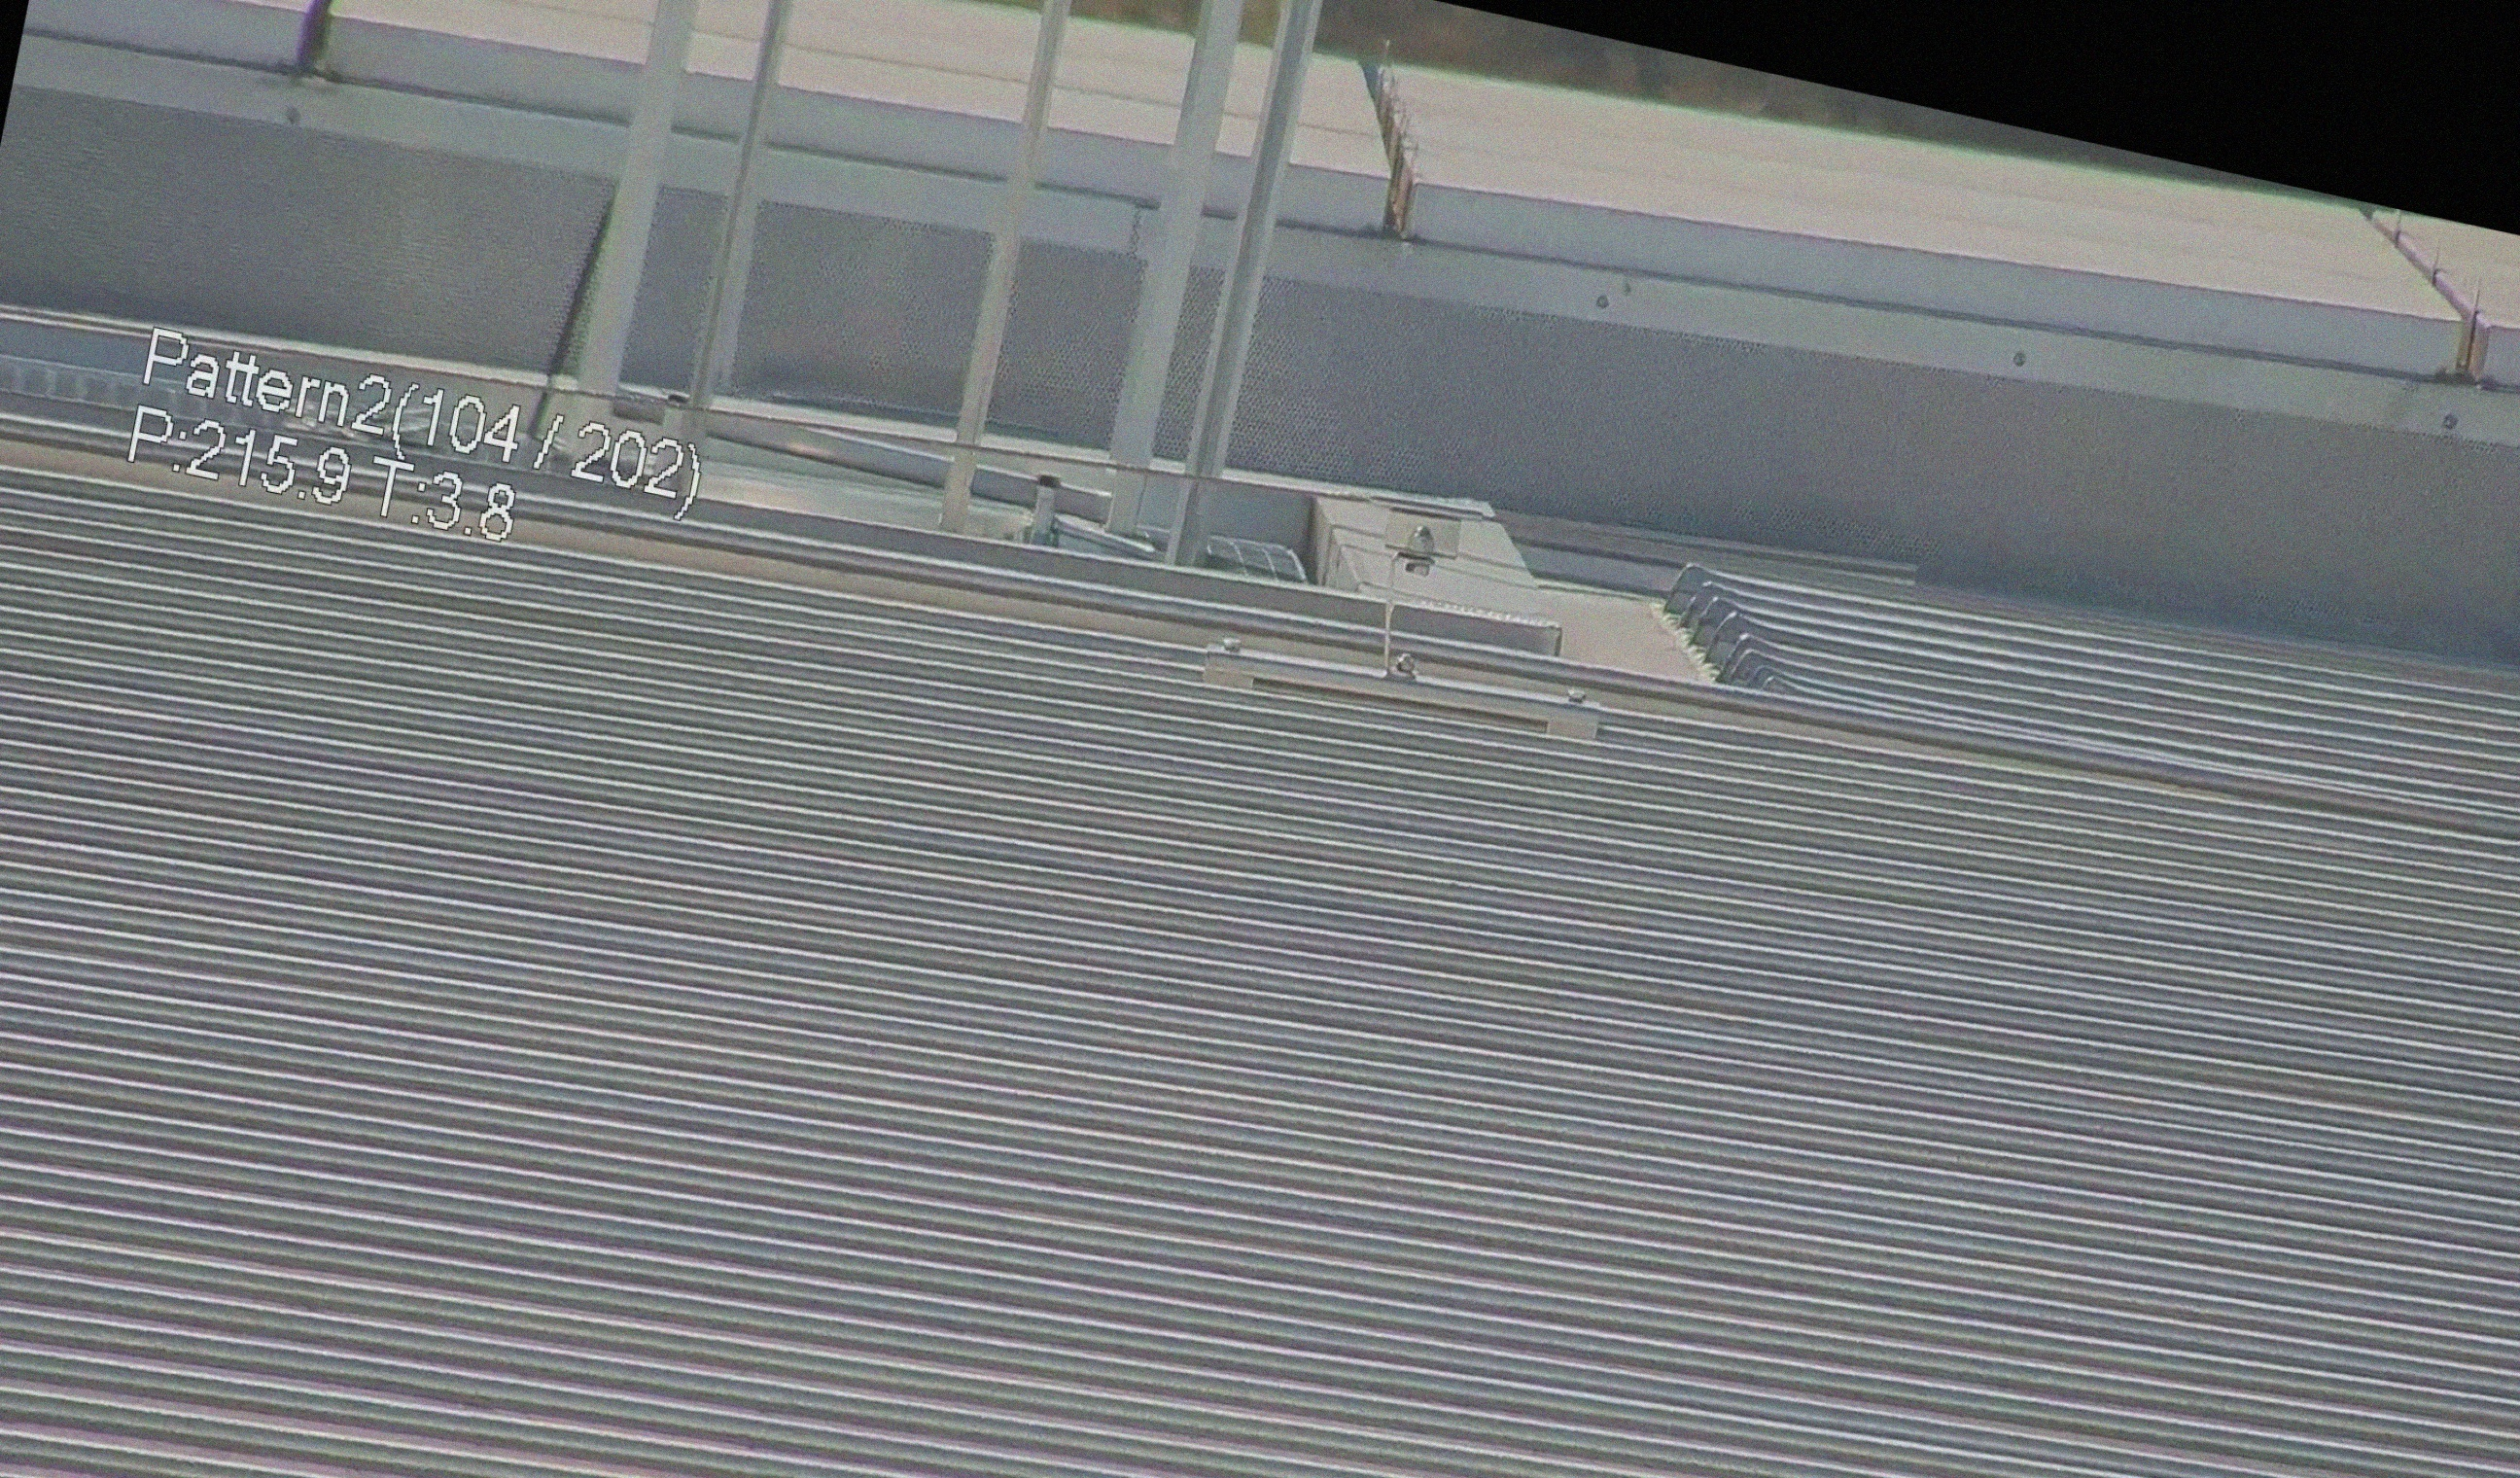Other: (454, 0, 684, 9)
